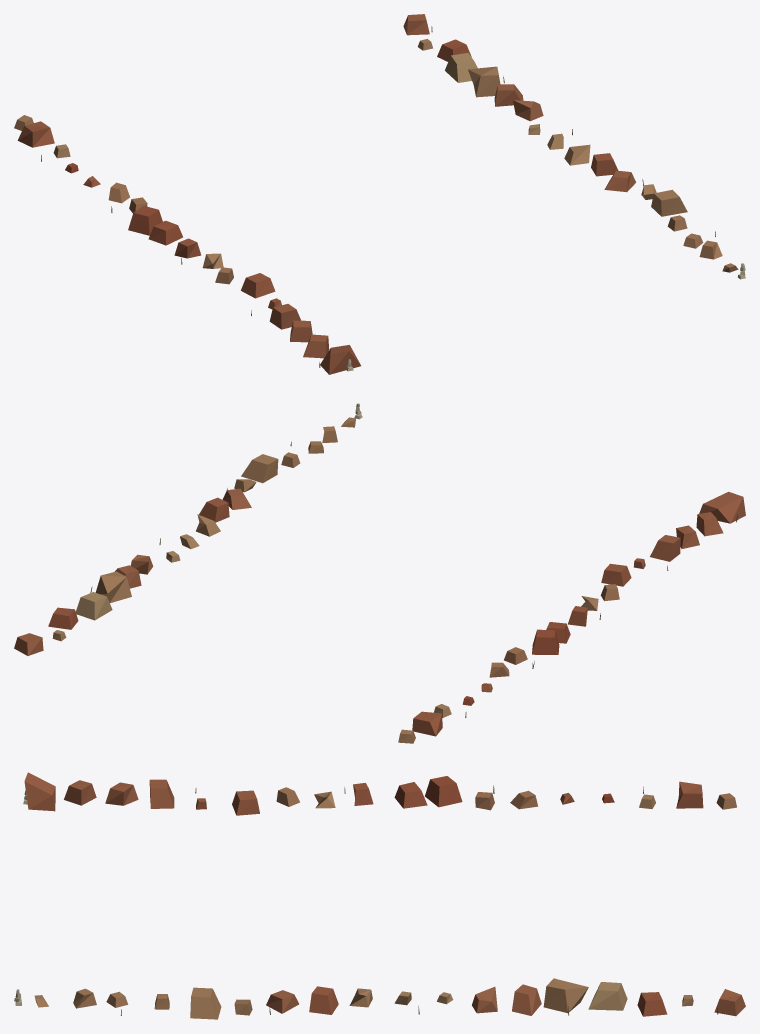
The model's file is mesa_lip_kicker_60x32x36_detail1.glb.
The picture shows the model from 3 angles, top to bottom: view 1: azimuth 30°, elevation 25°; view 2: azimuth 150°, elevation 25°; view 3: azimuth 270°, elevation 25°; orthographic projection. The views are drawn at different scales.
Visible parts, largest first — view 1: mesa_lip_kicker_60x32x36_detail1; view 2: mesa_lip_kicker_60x32x36_detail1; view 3: mesa_lip_kicker_60x32x36_detail1.
Boxes of the visible parts, left/top/right/bottom form: mesa_lip_kicker_60x32x36_detail1: left=14, top=14, right=745, bottom=374; mesa_lip_kicker_60x32x36_detail1: left=14, top=403, right=745, bottom=743; mesa_lip_kicker_60x32x36_detail1: left=14, top=772, right=745, bottom=1019.
Bounding box in the file's own units: 43.57 × 1.89 × 58.94.
